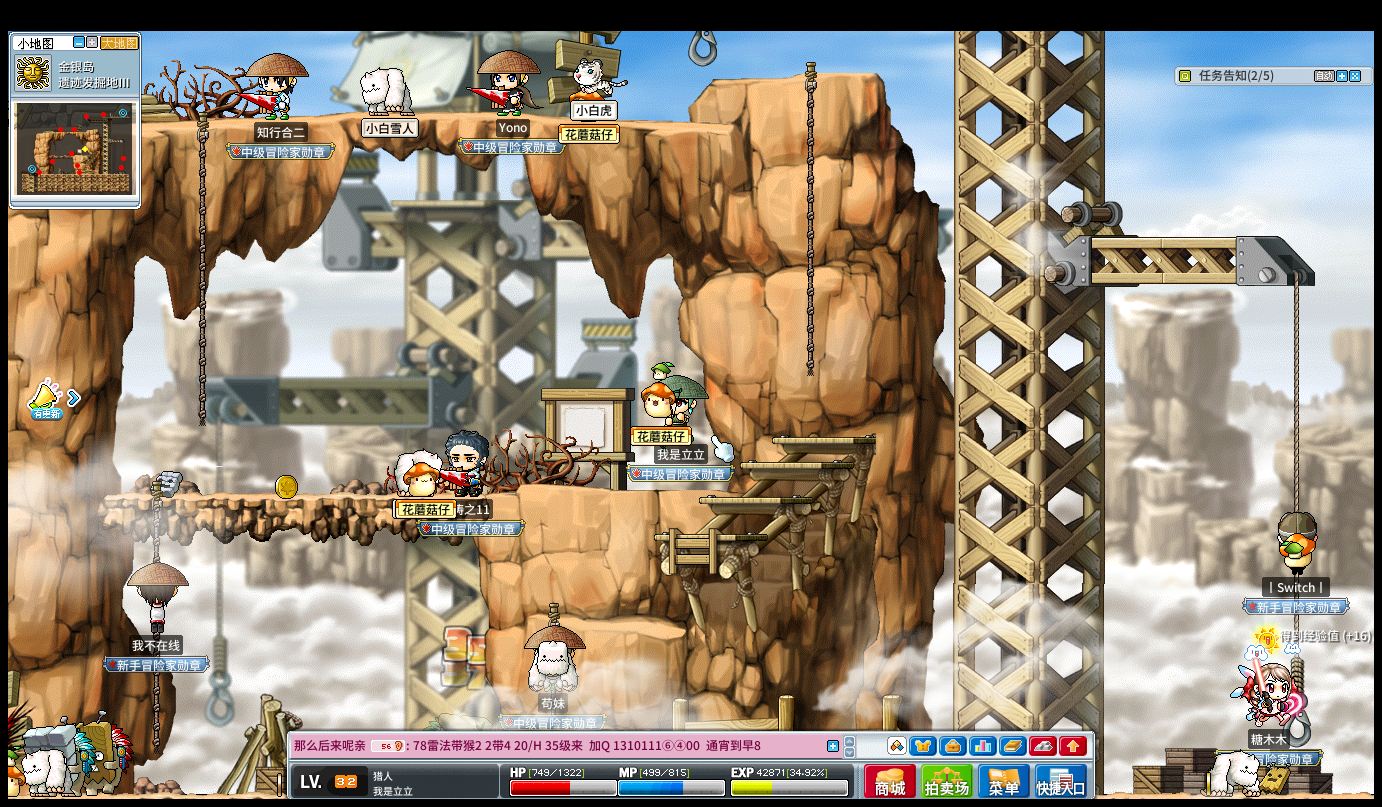floor: (147, 108, 741, 137), (99, 492, 488, 503), (1090, 233, 1285, 248), (708, 73, 886, 86), (579, 617, 687, 638), (711, 70, 883, 83), (573, 486, 740, 495), (770, 435, 876, 447), (654, 532, 767, 541), (697, 495, 808, 504), (738, 461, 851, 469)
monster: (83, 718, 132, 792)
rope: (803, 59, 817, 375), (195, 114, 206, 434), (1290, 279, 1303, 506), (151, 673, 164, 757), (149, 479, 162, 562), (1289, 442, 1302, 508), (151, 672, 160, 758)
